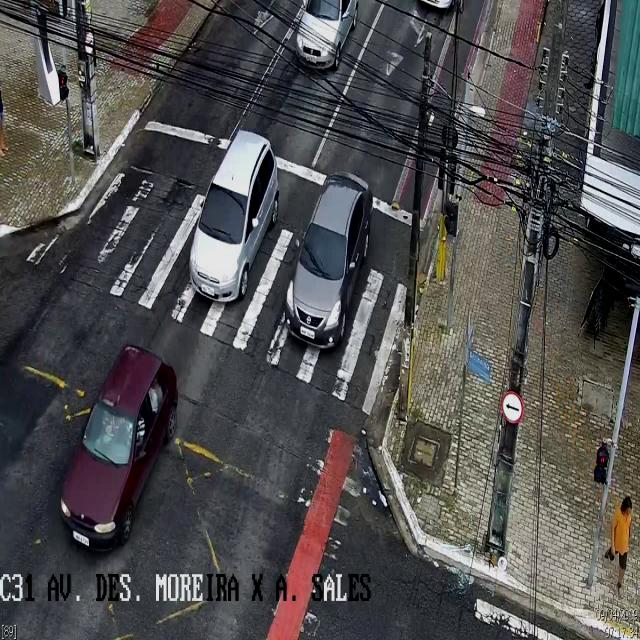Car: (61, 344, 177, 554), (190, 125, 278, 303), (287, 172, 369, 350), (294, 0, 356, 72)
